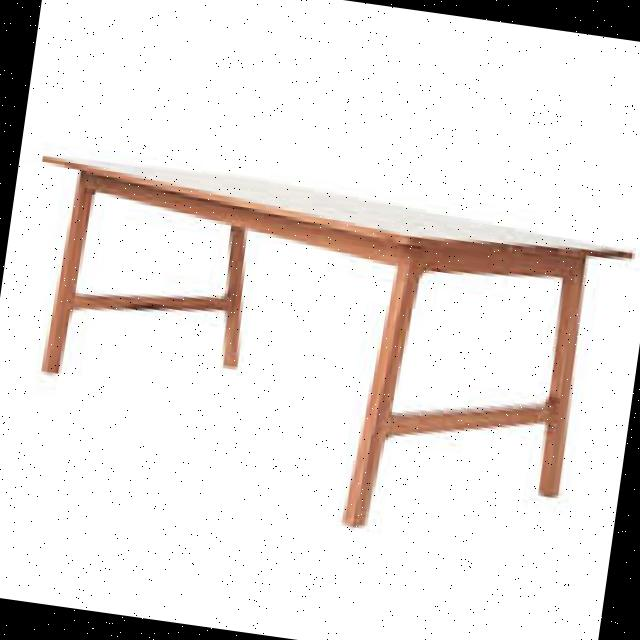Table: (0, 117, 640, 583)
